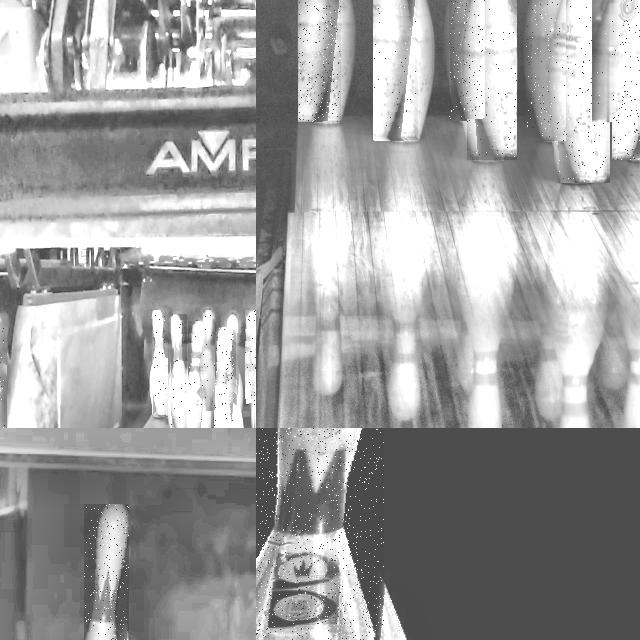bowling-pins: (256, 428, 382, 640), (554, 0, 608, 183), (468, 0, 517, 158), (373, 0, 416, 138), (89, 505, 129, 640), (298, 0, 341, 122), (527, 0, 564, 140), (450, 0, 471, 119), (594, 0, 614, 122), (215, 328, 234, 428), (188, 322, 205, 428), (171, 314, 186, 428), (152, 310, 166, 416), (203, 311, 215, 410), (246, 311, 256, 399), (0, 317, 5, 428)
